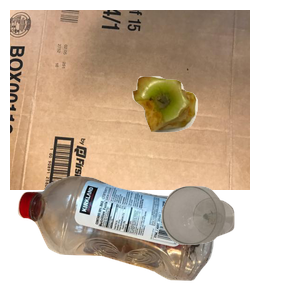cardboard: (10, 10, 250, 190)
glass: (159, 184, 300, 300)
plastic: (15, 173, 222, 300)
trash: (130, 74, 300, 199)
